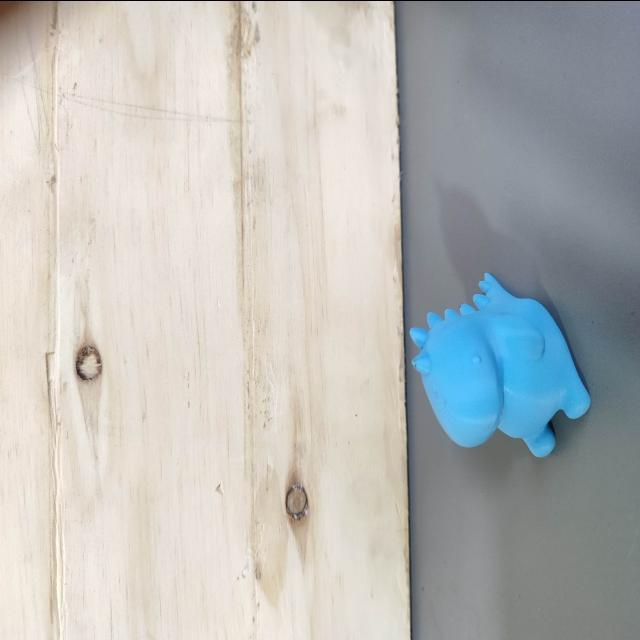DINO: (389, 266, 598, 469)
